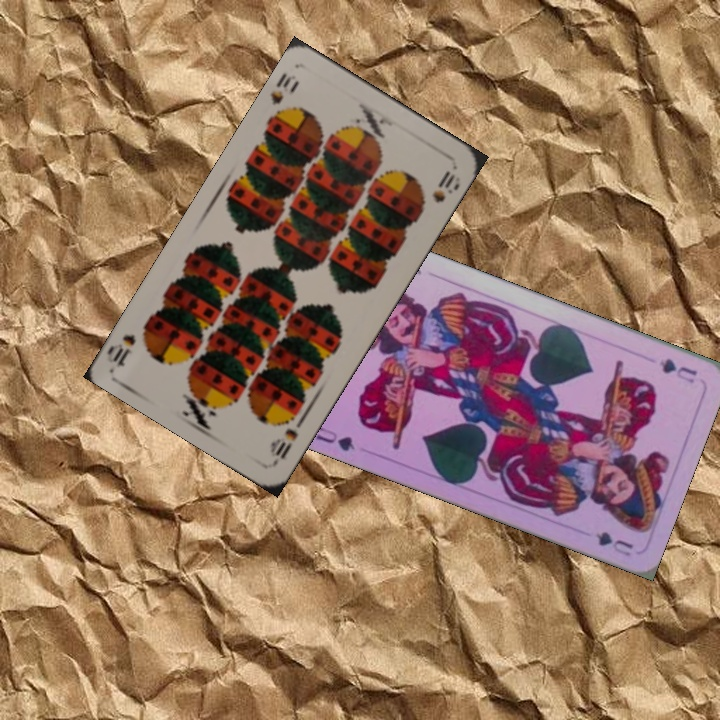GU: (312, 422, 358, 454), (655, 354, 700, 386)
S10: (266, 69, 302, 122), (266, 424, 301, 466)
